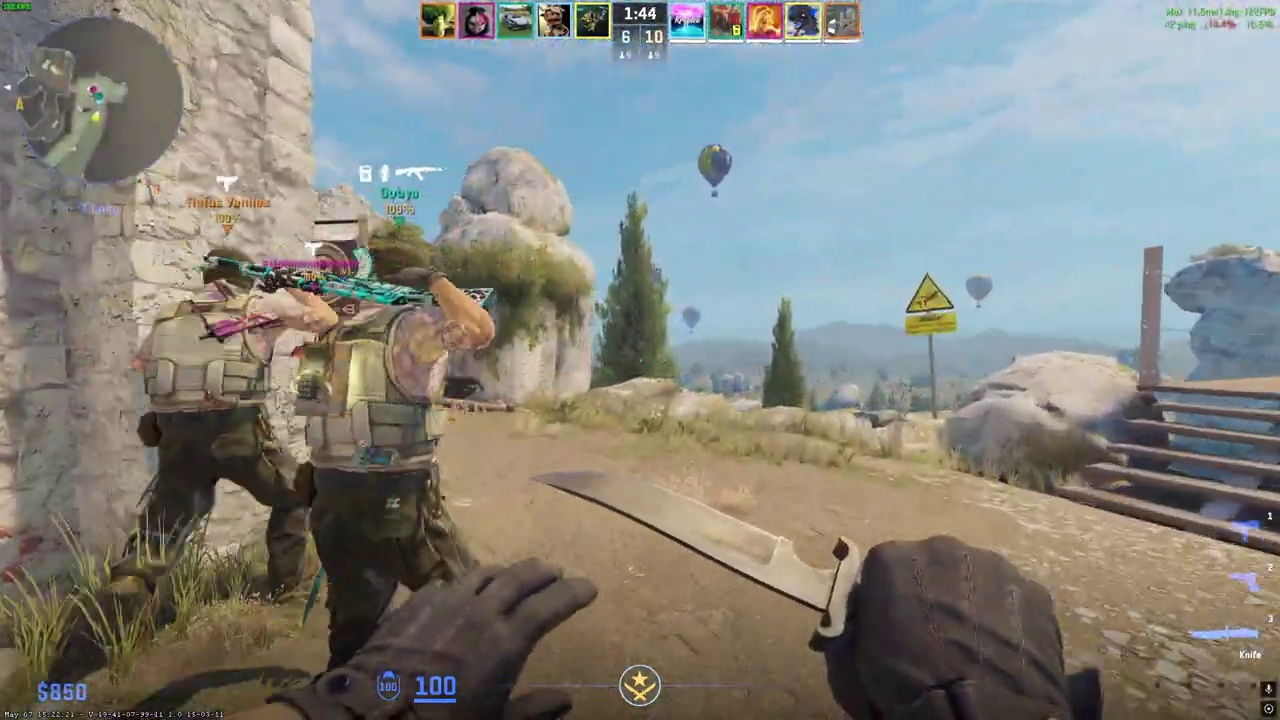Terrorist: (112, 246, 325, 647), (296, 244, 495, 666)
